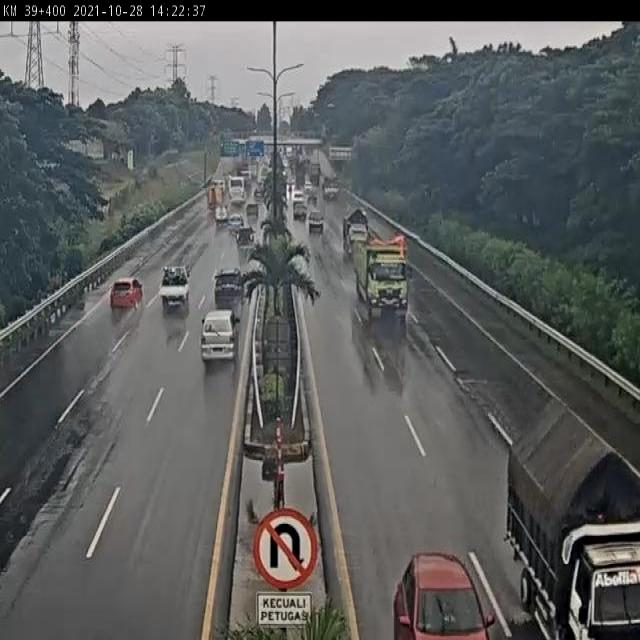Bus: (227, 174, 250, 208)
Car: (396, 550, 495, 637), (213, 267, 250, 303), (232, 222, 258, 252), (306, 210, 328, 234)
Truck: (506, 394, 640, 640), (349, 232, 418, 307), (153, 258, 195, 315), (110, 275, 146, 314), (207, 179, 224, 212)
Van: (200, 310, 243, 366)
